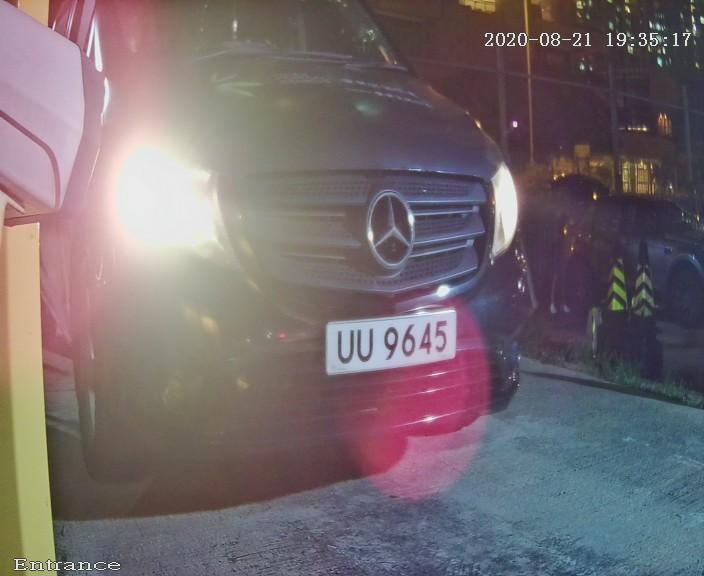Car: (1, 16, 582, 510)
License Plate: (305, 301, 462, 384)
